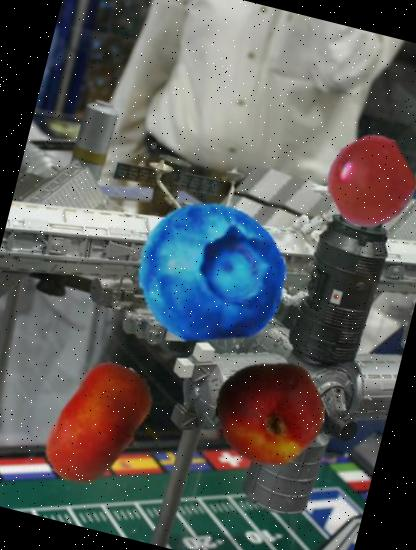Huckleberry: (123, 184, 301, 362)
Nectarine: (21, 346, 178, 504), (204, 348, 336, 480)
Redcurrant: (314, 128, 416, 238)
